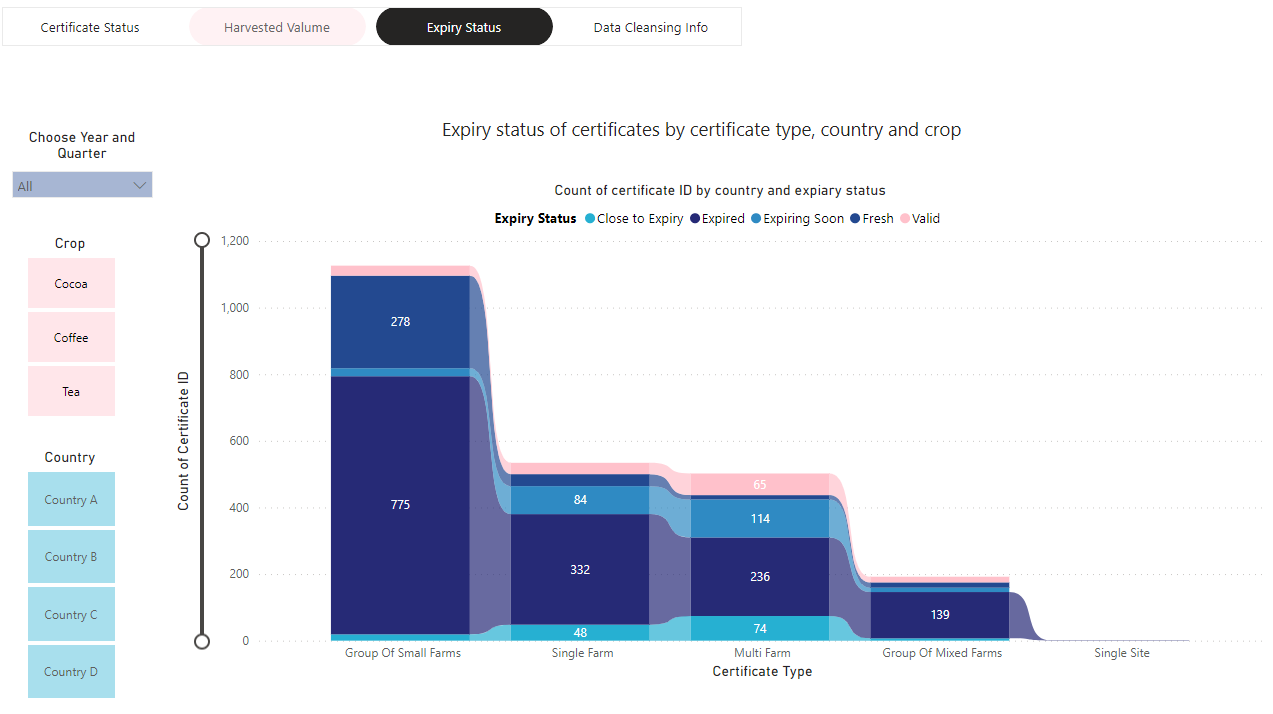

The dashboard page shown, as its layout file describes it:
{"tool":"powerbi","page":{"name":"Expiry Status","canvas":[1280,720],"ordinal":2},"visuals":[{"type":"columnChart","title":"Count of certificate ID by country and expiary status","fields":{"Category":["MergeValidateTables.Certificate Type"],"Y":["CountNonNull(MergeValidateTables.Certificate ID)"],"Series":["MergeValidateTables.Expiry Status"]},"box":[172,183,1101,502],"z":1000},{"type":"slicer","title":"Choose Year and Quarter","fields":{"Values":["MergeValidateTables.Certificate start date.Variation.Date Hierarchy.Year","MergeValidateTables.Certificate start date.Variation.Date Hierarchy.Quarter"]},"box":[4,130,161,82],"z":2000},{"type":"slicer","title":"Country","fields":{"Values":["MergeValidateTables.Country"]},"box":[4,450,137,256],"z":3000},{"type":"slicer","title":"Crop","fields":{"Values":["MergeValidateTables.Crop"]},"box":[4,236,137,188],"z":4000},{"type":"pageNavigator","box":[4,8,740,39],"z":5000},{"type":"textbox","box":[260,112,888,36],"z":6000}]}

Visuals, with their boxes in screenshot pixels (x1, y1, x2, y2), scaled from the page's 1280x720 canvas onto the 1273x714 screenshot:
"Count of certificate ID by country and expiary status" columnChart: [171,181,1266,679]
"Choose Year and Quarter" slicer: [4,129,164,210]
"Country" slicer: [4,446,140,700]
"Crop" slicer: [4,234,140,420]
pageNavigator: [4,8,740,47]
textbox: [259,111,1142,147]
